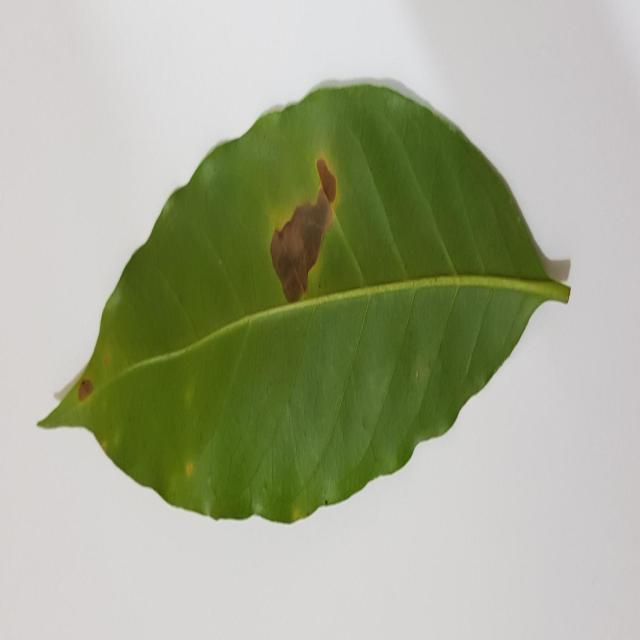miner: (270, 159, 336, 302), (78, 376, 93, 401)
rust: (185, 459, 195, 481)
